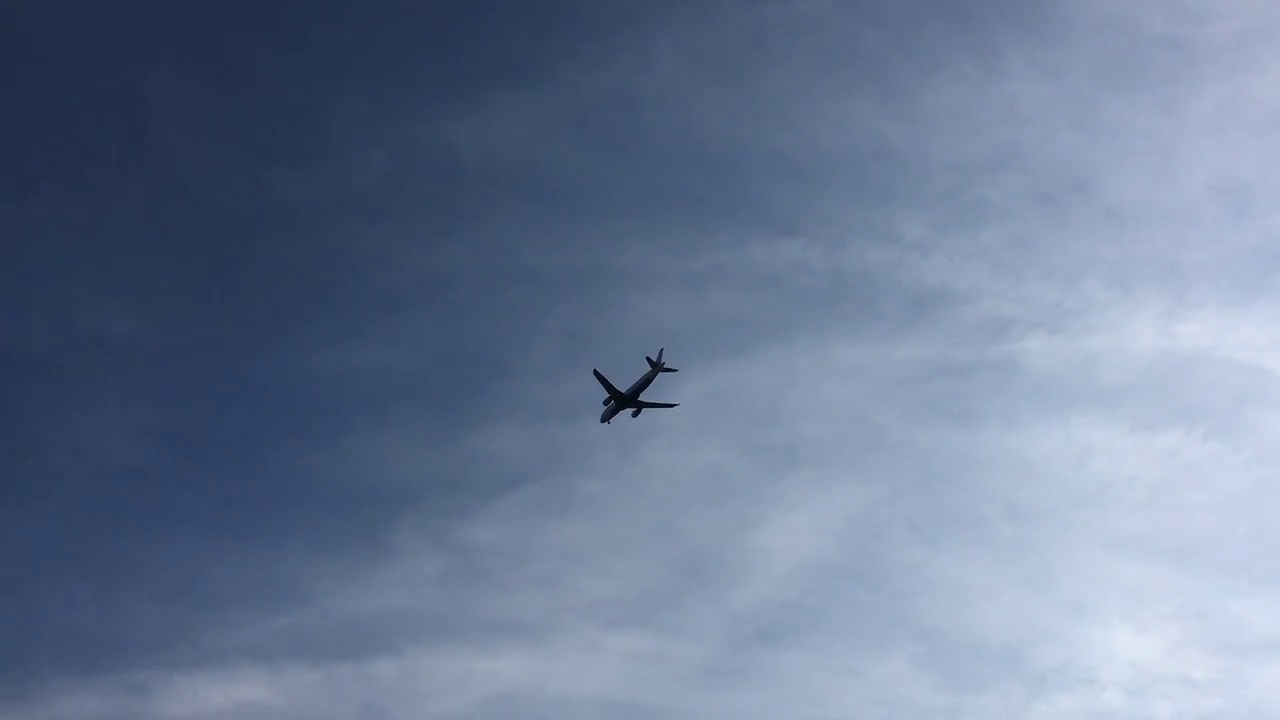plane: (592, 346, 680, 423)
